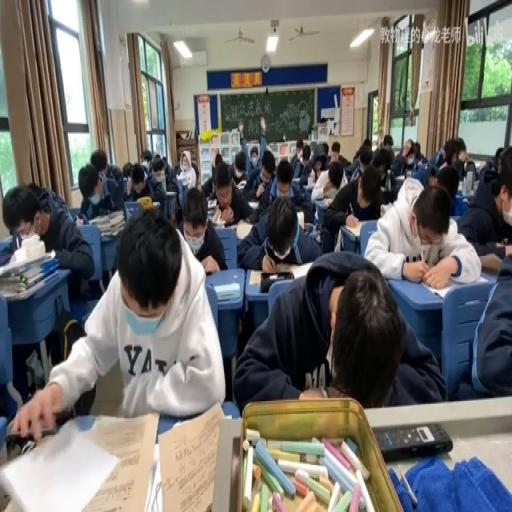calculator: (2, 410, 159, 509), (157, 401, 227, 512), (0, 243, 58, 299), (248, 260, 314, 283), (144, 448, 163, 512), (421, 277, 475, 299), (214, 280, 240, 300), (344, 216, 365, 236), (234, 218, 253, 240), (122, 199, 141, 218), (204, 198, 218, 219), (300, 179, 314, 196), (174, 170, 190, 184), (380, 200, 394, 214), (322, 189, 338, 201), (295, 209, 304, 229), (210, 218, 226, 228), (314, 196, 330, 206), (246, 199, 260, 208), (75, 215, 85, 226), (234, 179, 246, 188), (163, 189, 176, 196), (292, 176, 302, 185), (394, 172, 404, 181), (405, 168, 413, 178)
paper: (12, 206, 222, 438), (233, 253, 438, 414), (363, 169, 481, 286), (450, 238, 510, 401), (237, 185, 319, 267), (325, 159, 385, 243), (180, 184, 228, 272), (78, 156, 126, 220), (146, 152, 180, 212), (245, 148, 278, 209), (432, 135, 467, 184), (491, 148, 512, 222), (378, 145, 408, 195), (200, 152, 229, 198), (126, 158, 151, 200), (288, 142, 308, 181), (415, 158, 437, 188), (328, 139, 350, 168), (274, 160, 291, 194), (357, 145, 372, 174), (328, 165, 342, 189), (170, 196, 181, 225), (190, 161, 199, 189), (140, 148, 153, 166), (234, 154, 245, 175), (382, 132, 394, 148), (248, 146, 258, 165), (122, 160, 132, 178), (494, 146, 504, 164), (210, 146, 219, 166), (436, 148, 445, 165), (413, 141, 420, 158), (322, 141, 328, 159), (363, 138, 371, 151), (173, 161, 180, 175), (302, 151, 310, 162), (182, 156, 188, 168), (161, 155, 166, 165)
person: (374, 422, 451, 461)
